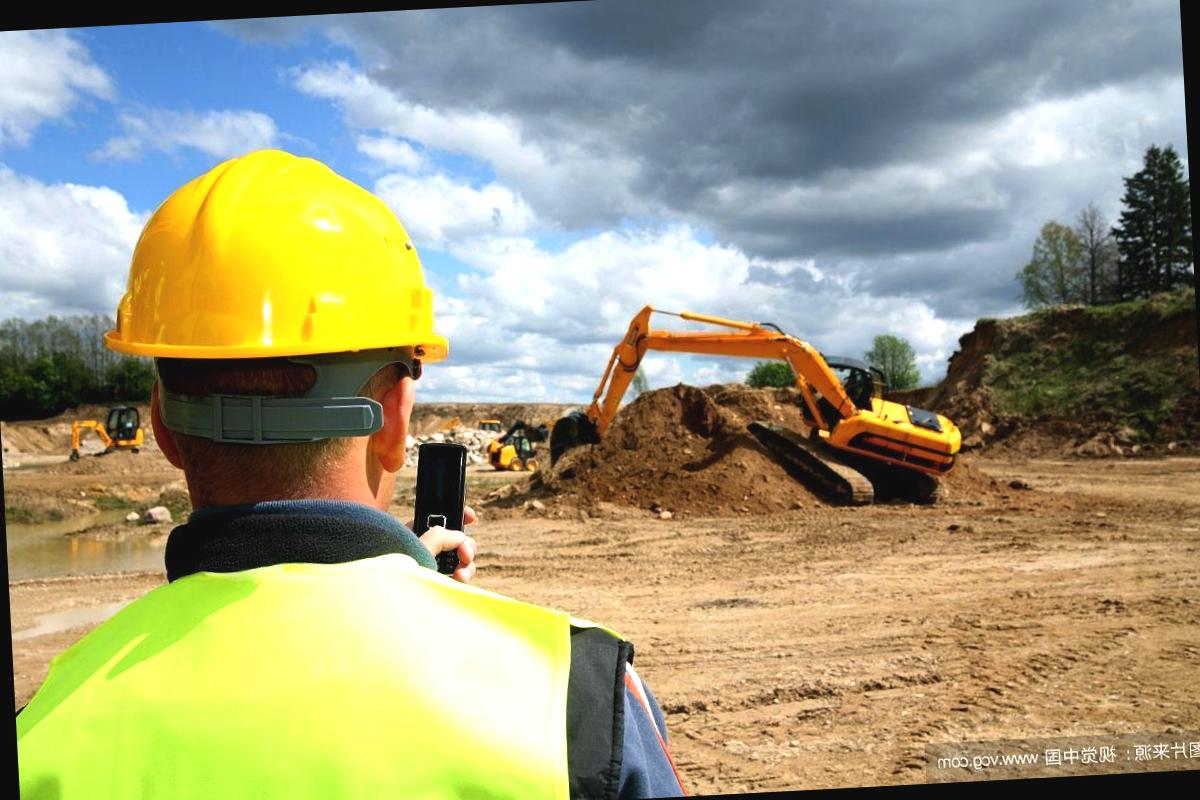helmet: (80, 139, 456, 370)
person: (0, 119, 722, 800)
